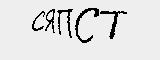П: (57, 7, 73, 37)
С: (73, 7, 98, 46), (29, 7, 46, 34)
Т: (98, 7, 128, 40)
Я: (44, 5, 57, 33)
